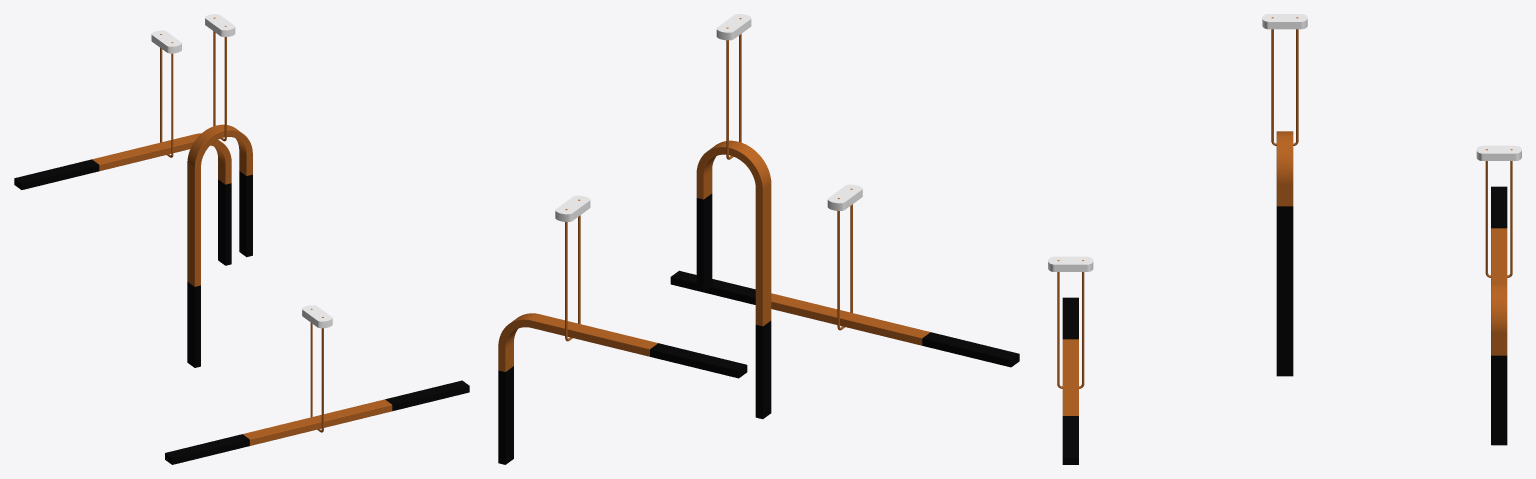
Rendered from Minimal_light_led.fbx.
3 views of the same model, side by side, from view 1: azimuth 30°, elevation 25°; view 2: azimuth 150°, elevation 25°; view 3: azimuth 270°, elevation 25° (orthographic). The views are drawn at different scales.
Parts seen in each view (by area): view 1: Difference_002, Group_010, Difference_001, Component#1_003, Component#1_001, Component#1_006, Component#1_004, Component#1_005, Component#1_002, OuterShell_003, OuterShell_005, OuterShell_001 (+3 smaller); view 2: Difference_002, Difference_001, Group_010, Component#1_005, Component#1_004, Component#1_001, Component#1_003, Component#1_006, Component#1_002, OuterShell_003, OuterShell_001, OuterShell_005 (+3 smaller); view 3: Difference_001, Component#1_005, Component#1_006, Component#1_004, Difference_002, Group_010, Component#1_002, Component#1_001, Component#1_003, OuterShell_003, OuterShell_001, OuterShell_005 (+3 smaller).
Boxes of the visible parts, x1,y1,x2,y2 form: Difference_002: (187,124,252,286); Group_010: (243,399,392,445); Difference_001: (92,133,231,184); Component#1_003: (14,159,99,189); Component#1_001: (165,434,249,464); Component#1_006: (218,179,231,265); Component#1_004: (187,282,200,367); Component#1_005: (239,171,252,257); Component#1_002: (385,380,469,411); OuterShell_003: (213,17,226,141); OuterShell_005: (310,308,323,432); OuterShell_001: (160,34,173,157); Difference_002: (696,140,771,326); Difference_001: (498,313,657,371); Group_010: (771,293,930,345); Component#1_005: (696,193,712,292); Component#1_004: (755,321,771,419); Component#1_001: (922,332,1019,367); Component#1_003: (650,343,747,378); Component#1_006: (498,366,513,464); Component#1_002: (670,270,755,304); OuterShell_003: (726,18,741,159); OuterShell_001: (565,199,580,341); OuterShell_005: (837,188,852,330); Difference_001: (1491,228,1507,355); Component#1_005: (1276,206,1293,295); Component#1_006: (1491,355,1507,445); Component#1_004: (1276,296,1293,376); Difference_002: (1276,131,1293,206); Group_010: (1062,339,1078,415); Component#1_002: (1062,416,1078,464); Component#1_001: (1062,297,1078,339); Component#1_003: (1491,186,1507,228); OuterShell_003: (1271,17,1298,145); OuterShell_001: (1485,149,1512,277); OuterShell_005: (1057,260,1084,388).
Size of the model in its own units: 92.02 by 99.32 by 115.
